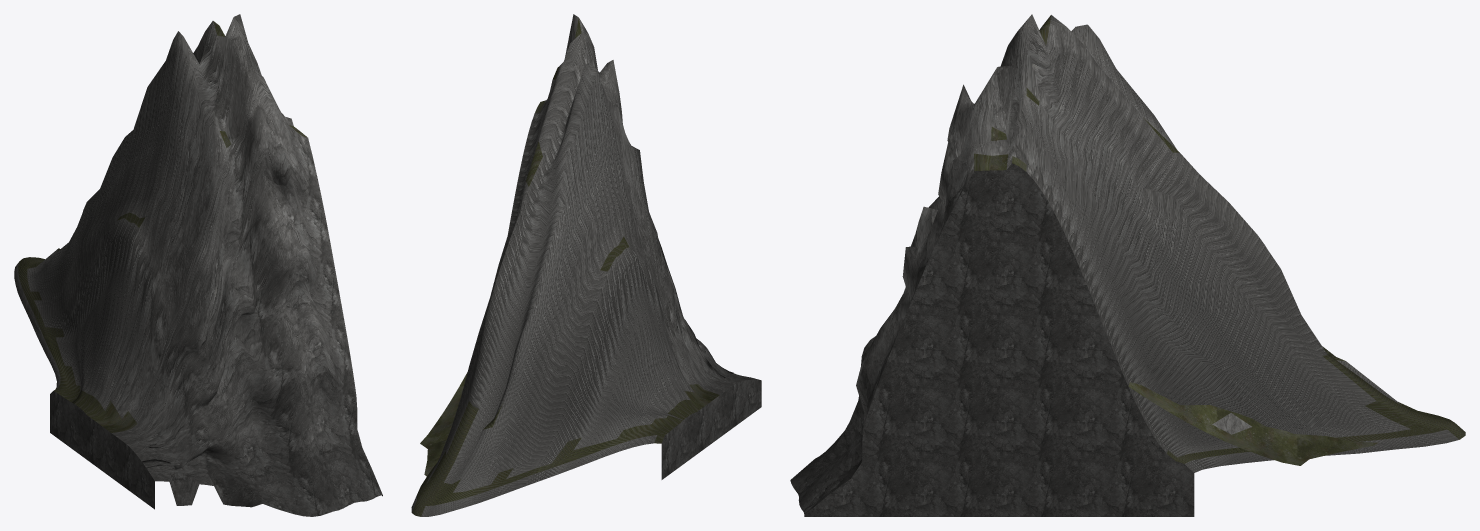
Rendered from seacliff_endcap_left_h8_a_v5_summer.glb.
3 renders of one model, left to right at view 1: azimuth 30°, elevation 25°; view 2: azimuth 150°, elevation 25°; view 3: azimuth 270°, elevation 25°, orthographic. The views are drawn at different scales.
Parts seen in each view (by area): view 1: seacliff_endcap_left_h8_a; view 2: seacliff_endcap_left_h8_a; view 3: seacliff_endcap_left_h8_a.
Boxes of the visible parts, x1,y1,x2,y2 form: seacliff_endcap_left_h8_a: [14, 14, 382, 516]; seacliff_endcap_left_h8_a: [411, 14, 761, 516]; seacliff_endcap_left_h8_a: [790, 14, 1465, 516].
Bounding box in the file's own units: 6 × 13.06 × 16.72.
2 materials, 2 textured.
